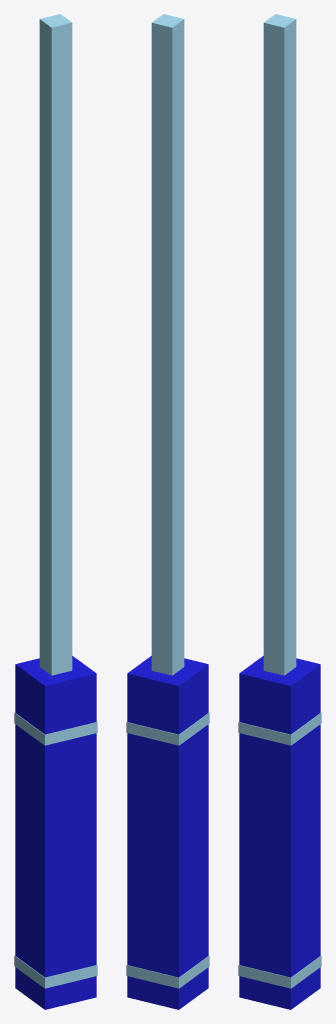
The model's file is IciclePic.fbx.
3 views of the same model, side by side, from view 1: azimuth 30°, elevation 25°; view 2: azimuth 150°, elevation 25°; view 3: azimuth 330°, elevation 25° (orthographic).
Parts seen in each view (by area): view 1: Cube.002, Cube.001, Cube.003, Cube.004; view 2: Cube.002, Cube.001, Cube.003, Cube.004; view 3: Cube.002, Cube.001, Cube.003, Cube.004.
Boxes of the visible parts, x1,y1,x2,y2 form: Cube.002: [15, 656, 96, 1009]; Cube.001: [39, 14, 72, 675]; Cube.003: [14, 712, 97, 745]; Cube.004: [14, 955, 97, 988]; Cube.002: [127, 656, 208, 1009]; Cube.001: [151, 14, 184, 675]; Cube.003: [126, 712, 209, 745]; Cube.004: [126, 955, 209, 988]; Cube.002: [239, 656, 320, 1009]; Cube.001: [263, 14, 296, 675]; Cube.003: [238, 712, 321, 745]; Cube.004: [238, 955, 321, 988].
Size of the model in its own units: 10.2 by 180 by 10.2.
